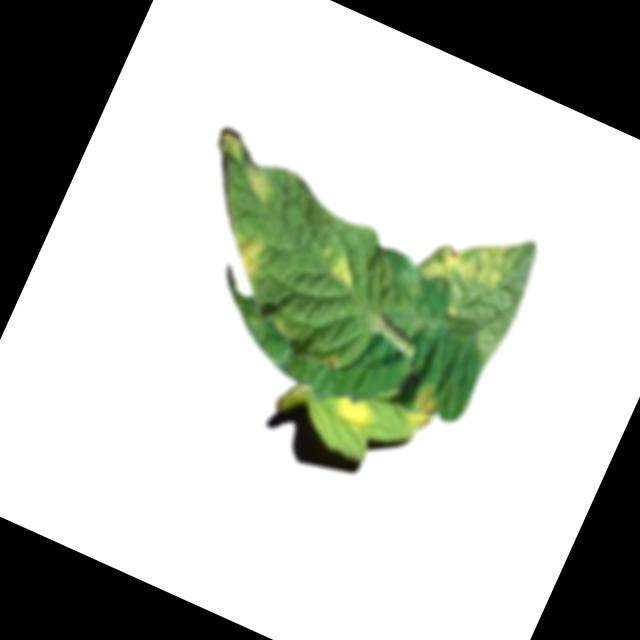Leaf_Mold: (419, 219, 512, 305), (399, 379, 451, 441), (327, 389, 386, 441), (222, 228, 274, 281), (321, 250, 366, 295), (210, 127, 248, 166), (240, 164, 275, 202)
